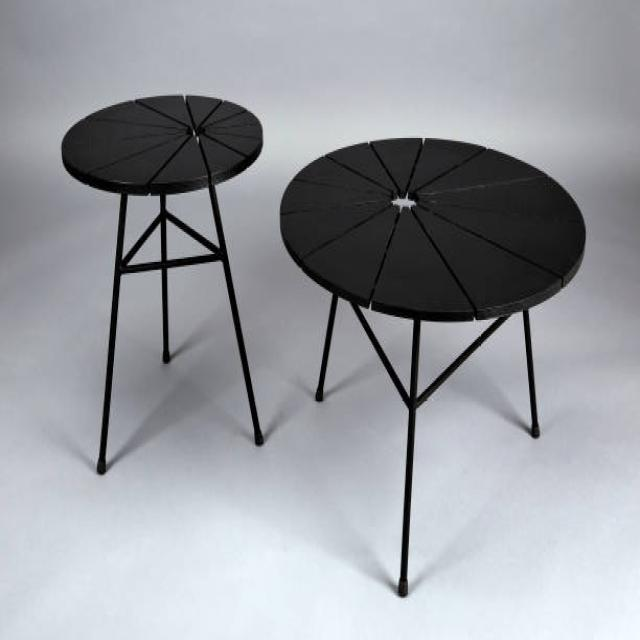table: (278, 135, 586, 596), (59, 92, 264, 476)
